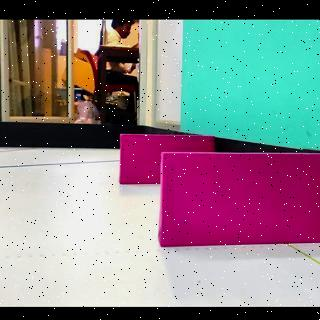xparking: (161, 156, 313, 241), (121, 134, 158, 184)
